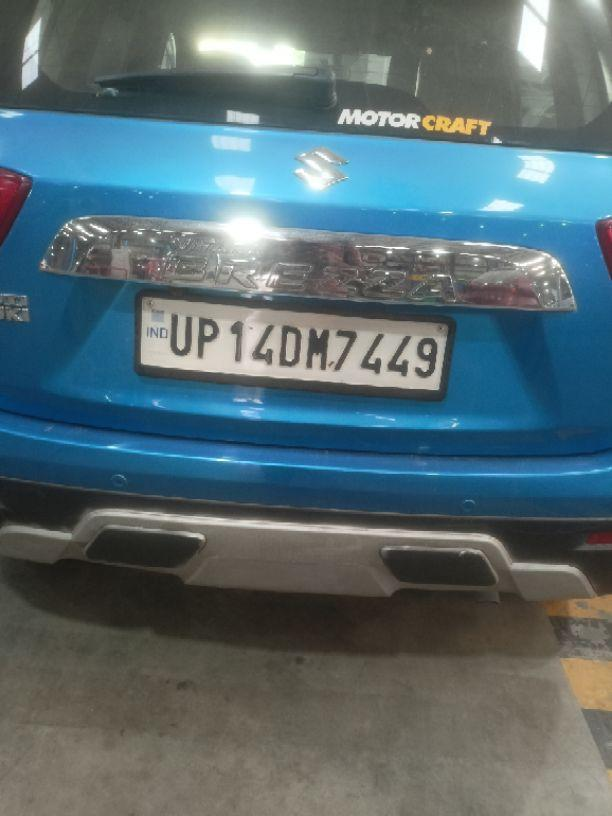license_plate: (133, 288, 456, 401)
